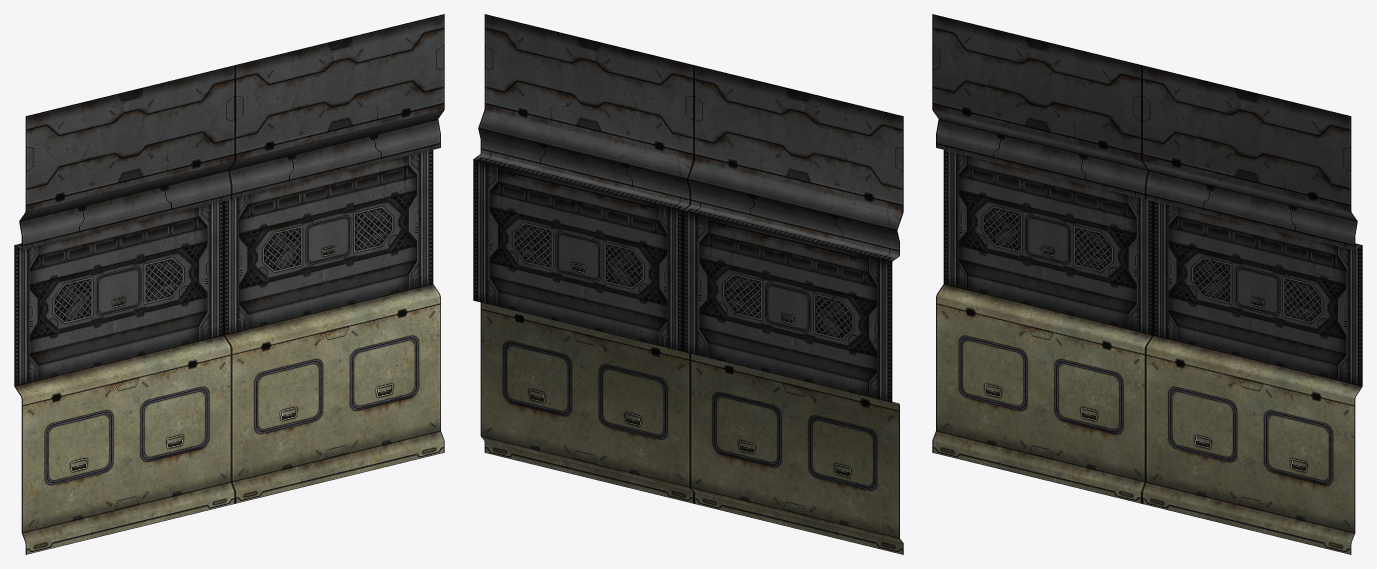
The model's file is living_area_flat01_storage.dae.
3 renders of one model, left to right at view 1: azimuth 30°, elevation 25°; view 2: azimuth 150°, elevation 25°; view 3: azimuth 330°, elevation 25°, orthographic.
Parts seen in each view (by area): view 1: pPlane6; view 2: pPlane6; view 3: pPlane6.
Part boxes in pixels (x1,y1,x2,y2): pPlane6: (14, 14, 444, 554); pPlane6: (473, 14, 903, 554); pPlane6: (932, 14, 1362, 554).
Size of the model in its own units: 4 by 4 by 0.1859.
